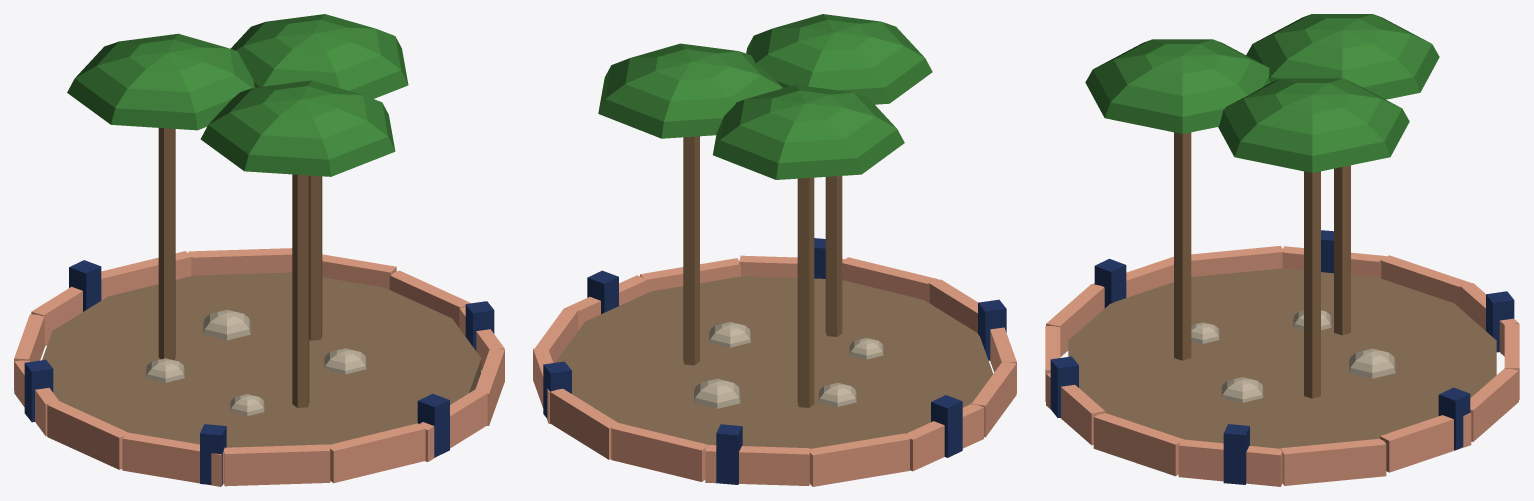
File: rb_peachwall.glb
The picture shows the model from 3 angles, left to right: view 1: azimuth 30°, elevation 25°; view 2: azimuth 150°, elevation 25°; view 3: azimuth 270°, elevation 25°; orthographic projection.
Visible parts, largest first — view 1: rb_peachwall_lod0; view 2: rb_peachwall_lod0; view 3: rb_peachwall_lod0.
Part boxes in pixels (x1=…): rb_peachwall_lod0: x1=14, y1=14, x2=504, y2=486; rb_peachwall_lod0: x1=533, y1=14, x2=1016, y2=486; rb_peachwall_lod0: x1=1045, y1=14, x2=1519, y2=486.
Size of what is drawn, in the model's own units: 9.73 by 7.17 by 9.5.
